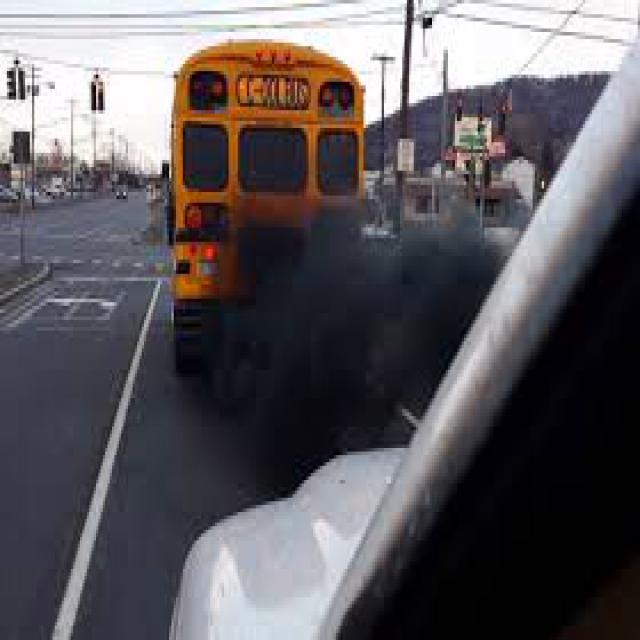smoke: (215, 217, 487, 405)
